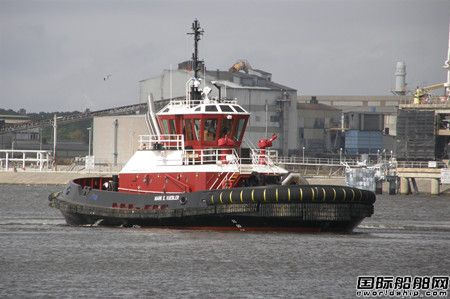otherboat: (47, 17, 404, 229)
